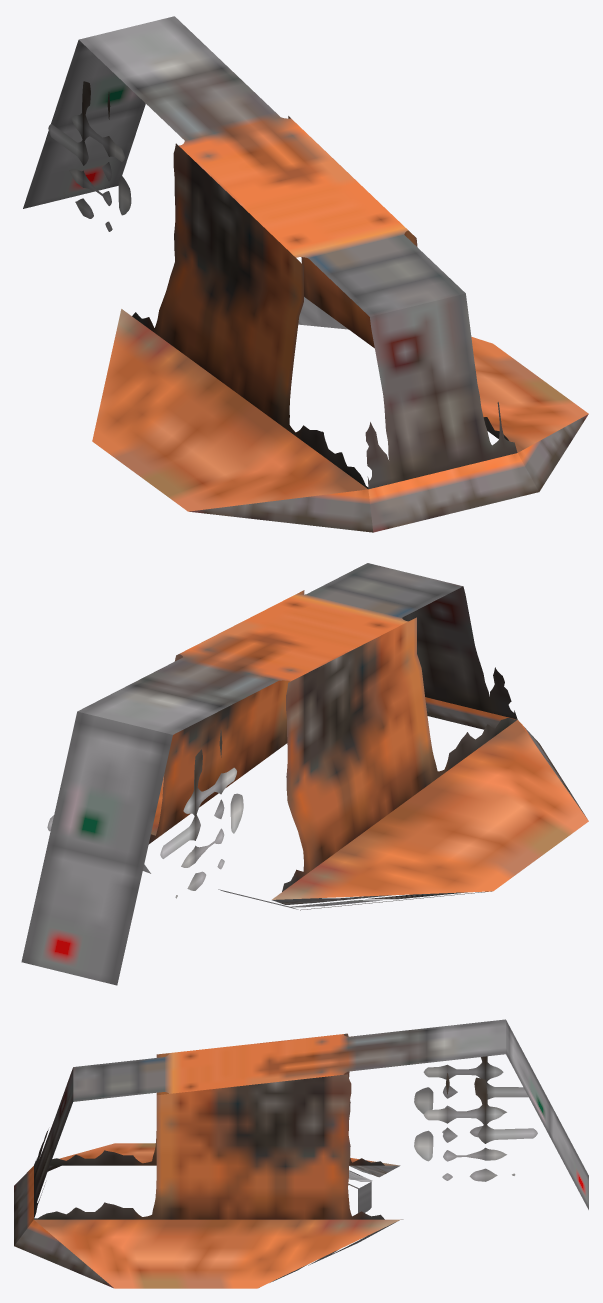
3 views of the same model, one above another, from view 1: azimuth 30°, elevation 25°; view 2: azimuth 150°, elevation 25°; view 3: azimuth 270°, elevation 25° (orthographic). The views are drawn at different scales.
Parts seen in each view (by area): view 1: PulsarGunUV; view 2: PulsarGunUV; view 3: PulsarGunUV.
Part boxes in pixels (x1=…): PulsarGunUV: x1=23, y1=16, x2=588, y2=532; PulsarGunUV: x1=21, y1=563, x2=588, y2=985; PulsarGunUV: x1=14, y1=1019, x2=588, y2=1288.
Bounding box in the file's own units: 7.24 × 4.18 × 12.11.
